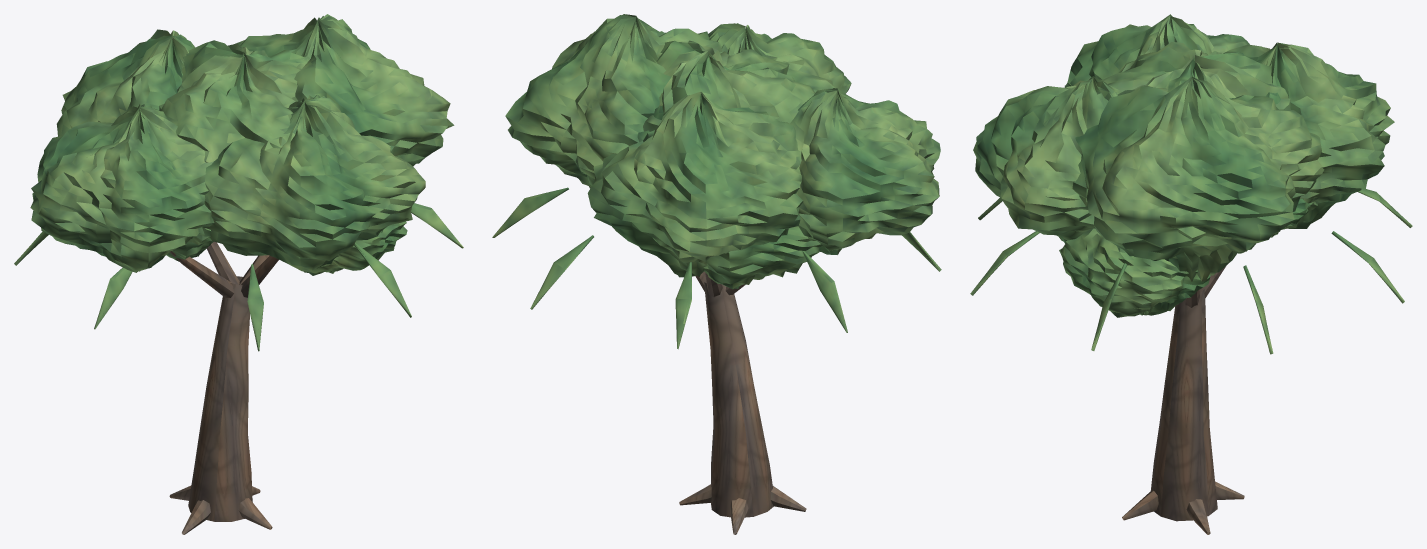
The model's file is tree_broadleaf-2mn112mf.glb.
The picture shows the model from 3 angles, left to right: view 1: azimuth 30°, elevation 25°; view 2: azimuth 150°, elevation 25°; view 3: azimuth 270°, elevation 25°; orthographic projection. The views are drawn at different scales.
Parts seen in each view (by area): view 1: foliage, trunk; view 2: foliage, trunk; view 3: foliage, trunk.
Boxes of the visible parts, x1=… form: foliage: x1=14, y1=14, x2=463, y2=351; trunk: x1=169, y1=241, x2=278, y2=534; foliage: x1=492, y1=14, x2=941, y2=349; trunk: x1=679, y1=271, x2=806, y2=534; foliage: x1=970, y1=14, x2=1412, y2=354; trunk: x1=1122, y1=265, x2=1244, y2=534.
Size of the model in its own units: 2.89 by 3.28 by 2.7.
2 materials, 2 textured.
